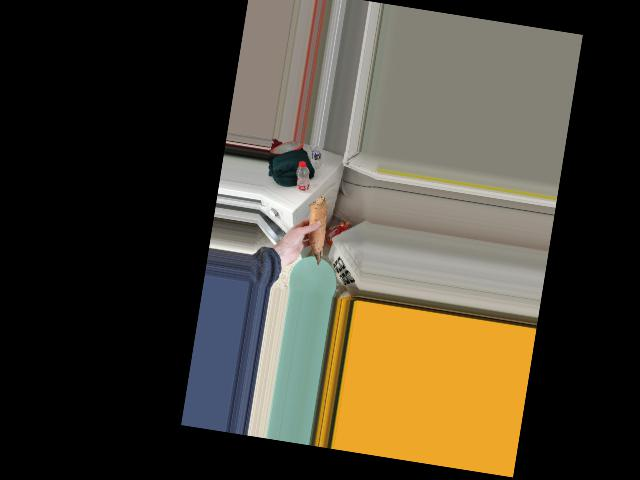sweet_potato: (300, 192, 329, 261)
